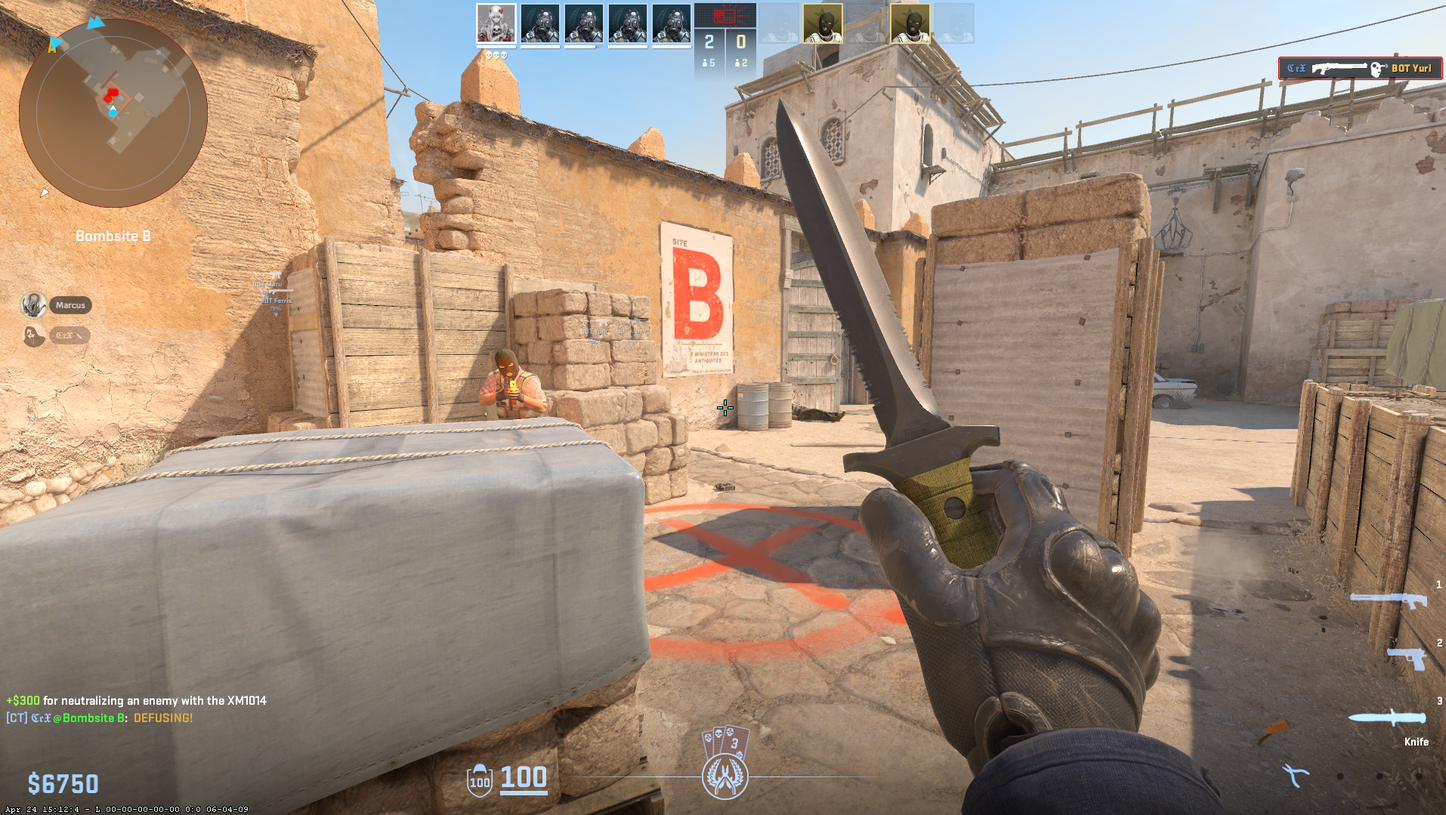T: (484, 352, 547, 418)
